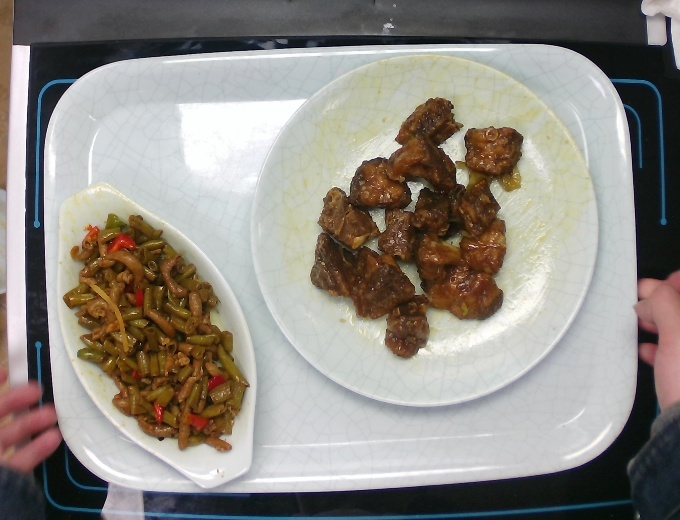JYsf-Da_Yuan_Pan: (251, 50, 598, 409)
JYsf-Yu_Pan: (51, 185, 262, 493)
